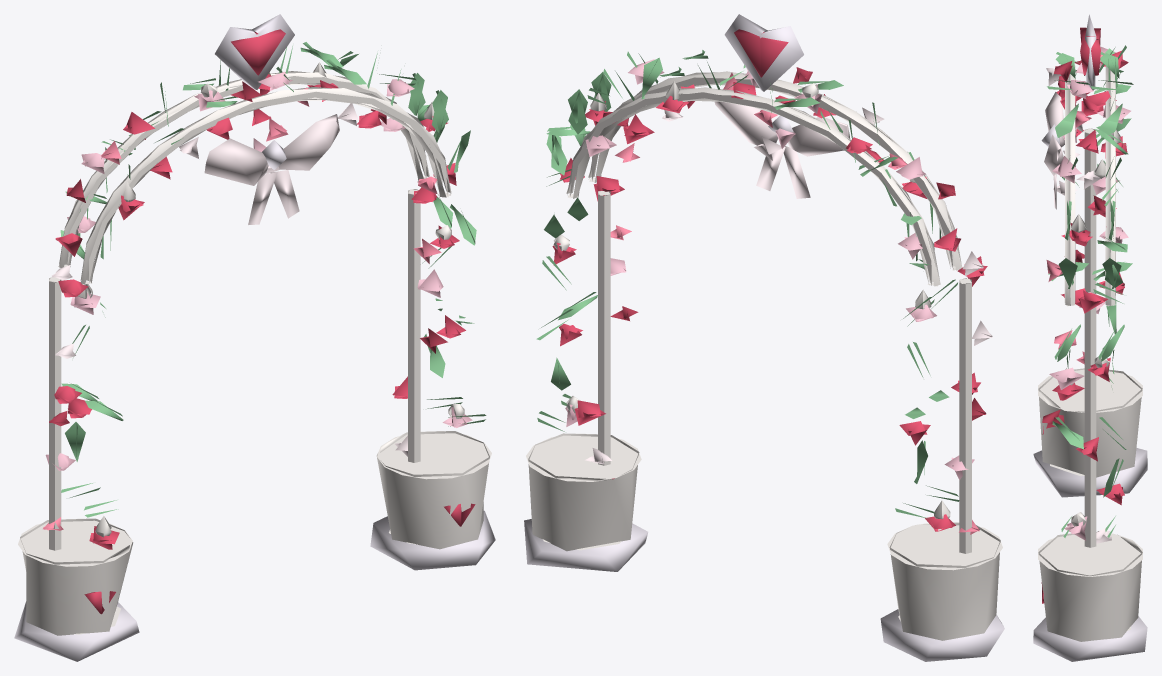
The model's file is lod_rose_arch.glb.
3 views of the same model, side by side, from view 1: azimuth 30°, elevation 25°; view 2: azimuth 150°, elevation 25°; view 3: azimuth 270°, elevation 25° (orthographic). The views are drawn at different scales.
Visible parts, largest first — view 1: rose_arch; view 2: rose_arch; view 3: rose_arch.
Boxes of the visible parts, box(x1,y1,x2,y2) form: rose_arch: box(14, 14, 495, 661); rose_arch: box(524, 14, 1004, 661); rose_arch: box(1033, 14, 1147, 661).
Bounding box in the file's own units: 3 × 3.49 × 0.6784.
